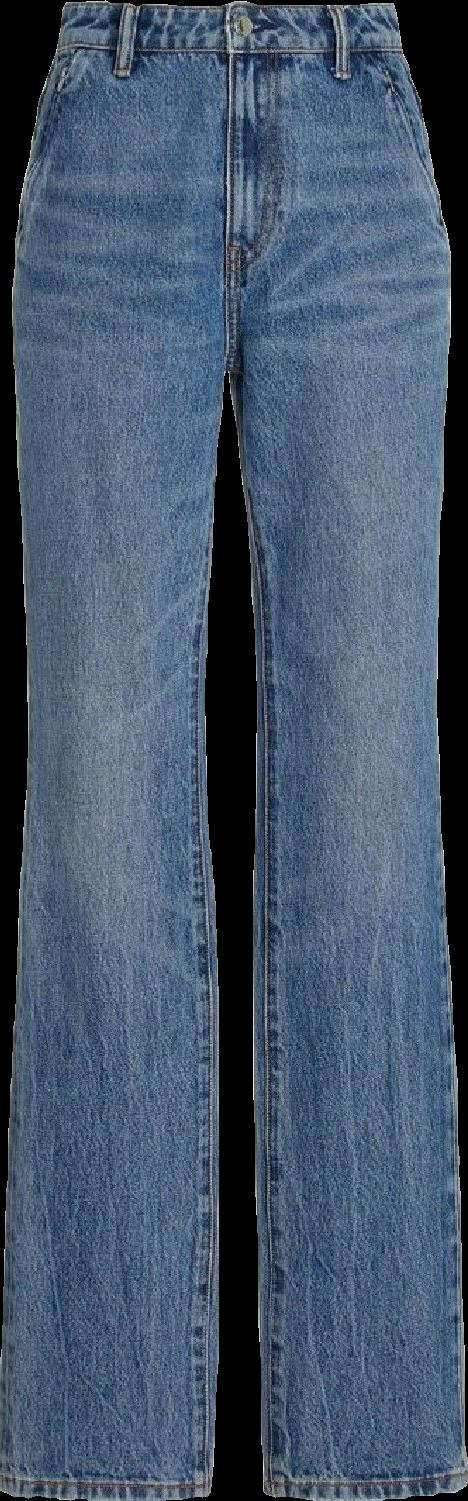Hemline: (0, 1478, 211, 1500), (263, 1478, 467, 1500)
Pantleg: (0, 0, 236, 1500), (233, 0, 467, 1500)
Waistline: (52, 35, 402, 67), (60, 0, 397, 17)
